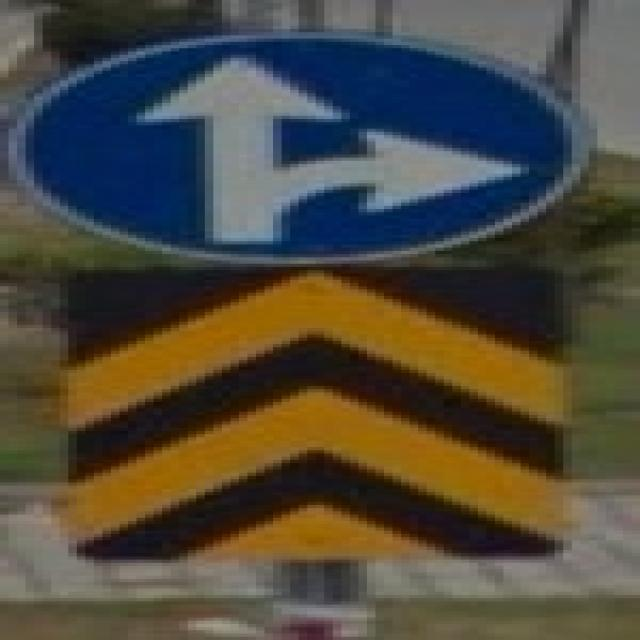Straight or Right: (14, 36, 585, 265)
